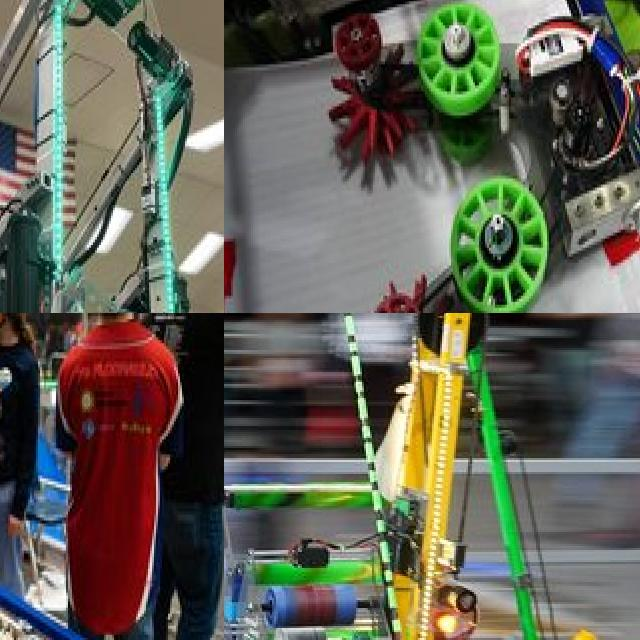FRC-Robots: (224, 0, 640, 313), (224, 313, 618, 640), (0, 0, 224, 313), (0, 313, 122, 640)
